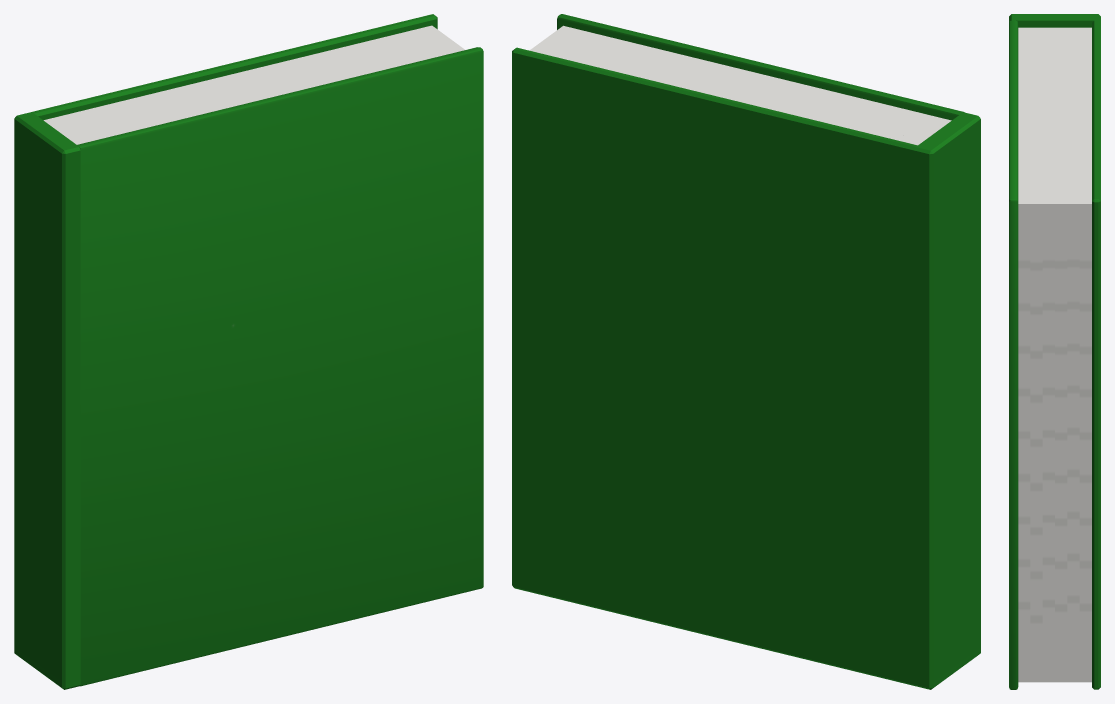
The model's file is BookOpen.fbx.
3 views of the same model, side by side, from view 1: azimuth 30°, elevation 25°; view 2: azimuth 150°, elevation 25°; view 3: azimuth 270°, elevation 25° (orthographic). The views are drawn at different scales.
Parts seen in each view (by area): view 1: BookL, Book002, BookR, B1, B3, B4, B2, B5; view 2: BookR, Book002, BookL, B3, B2, B4, B5, B6; view 3: B2, B5, B1, B3, B4, B6, BookL, BookR, Book002.
Part boxes in pixels (<box>): BookL: <box>77,47,483,686</box>; Book002: <box>14,112,80,689</box>; BookR: <box>32,14,437,120</box>; B1: <box>43,25,438,124</box>; B3: <box>57,35,451,134</box>; B4: <box>64,40,458,139</box>; B2: <box>50,30,444,129</box>; B5: <box>70,45,464,144</box>; BookR: <box>512,47,917,686</box>; Book002: <box>914,112,980,689</box>; BookL: <box>557,14,964,120</box>; B3: <box>536,40,931,140</box>; B2: <box>530,45,924,144</box>; B4: <box>543,35,937,135</box>; B5: <box>550,30,944,130</box>; B6: <box>557,25,951,125</box>; B2: <box>1067,27,1079,682</box>; B5: <box>1030,27,1042,682</box>; B1: <box>1079,27,1091,682</box>; B3: <box>1055,27,1067,682</box>; B4: <box>1042,27,1054,682</box>; B6: <box>1018,27,1030,682</box>; BookL: <box>1009,20,1018,689</box>; BookR: <box>1092,20,1100,689</box>; Book002: <box>1009,14,1100,27</box>.
Bounding box in the file's own units: 8.73 × 10.68 × 1.81.
1 material, 1 textured.
